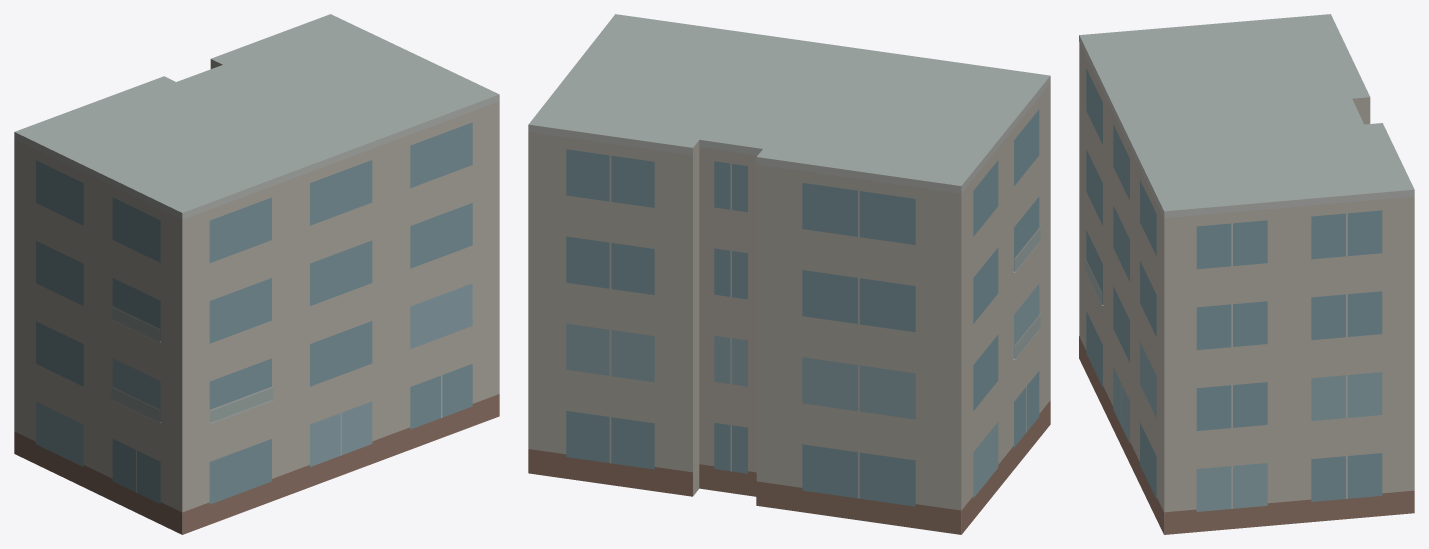
File: survey-upis-32723087.glb
The picture shows the model from 3 angles, left to right: view 1: azimuth 30°, elevation 25°; view 2: azimuth 150°, elevation 25°; view 3: azimuth 270°, elevation 25°; orthographic projection. The views are drawn at different scales.
Parts seen in each view (by area): view 1: survey-upis-32723087.tmp; view 2: survey-upis-32723087.tmp; view 3: survey-upis-32723087.tmp.
Part boxes in pixels (x1,y1,x2,y2): survey-upis-32723087.tmp: (14, 14, 499, 534); survey-upis-32723087.tmp: (528, 14, 1050, 534); survey-upis-32723087.tmp: (1079, 14, 1414, 534).
Bounding box in the file's own units: 15.19 × 11.6 × 10.91.
